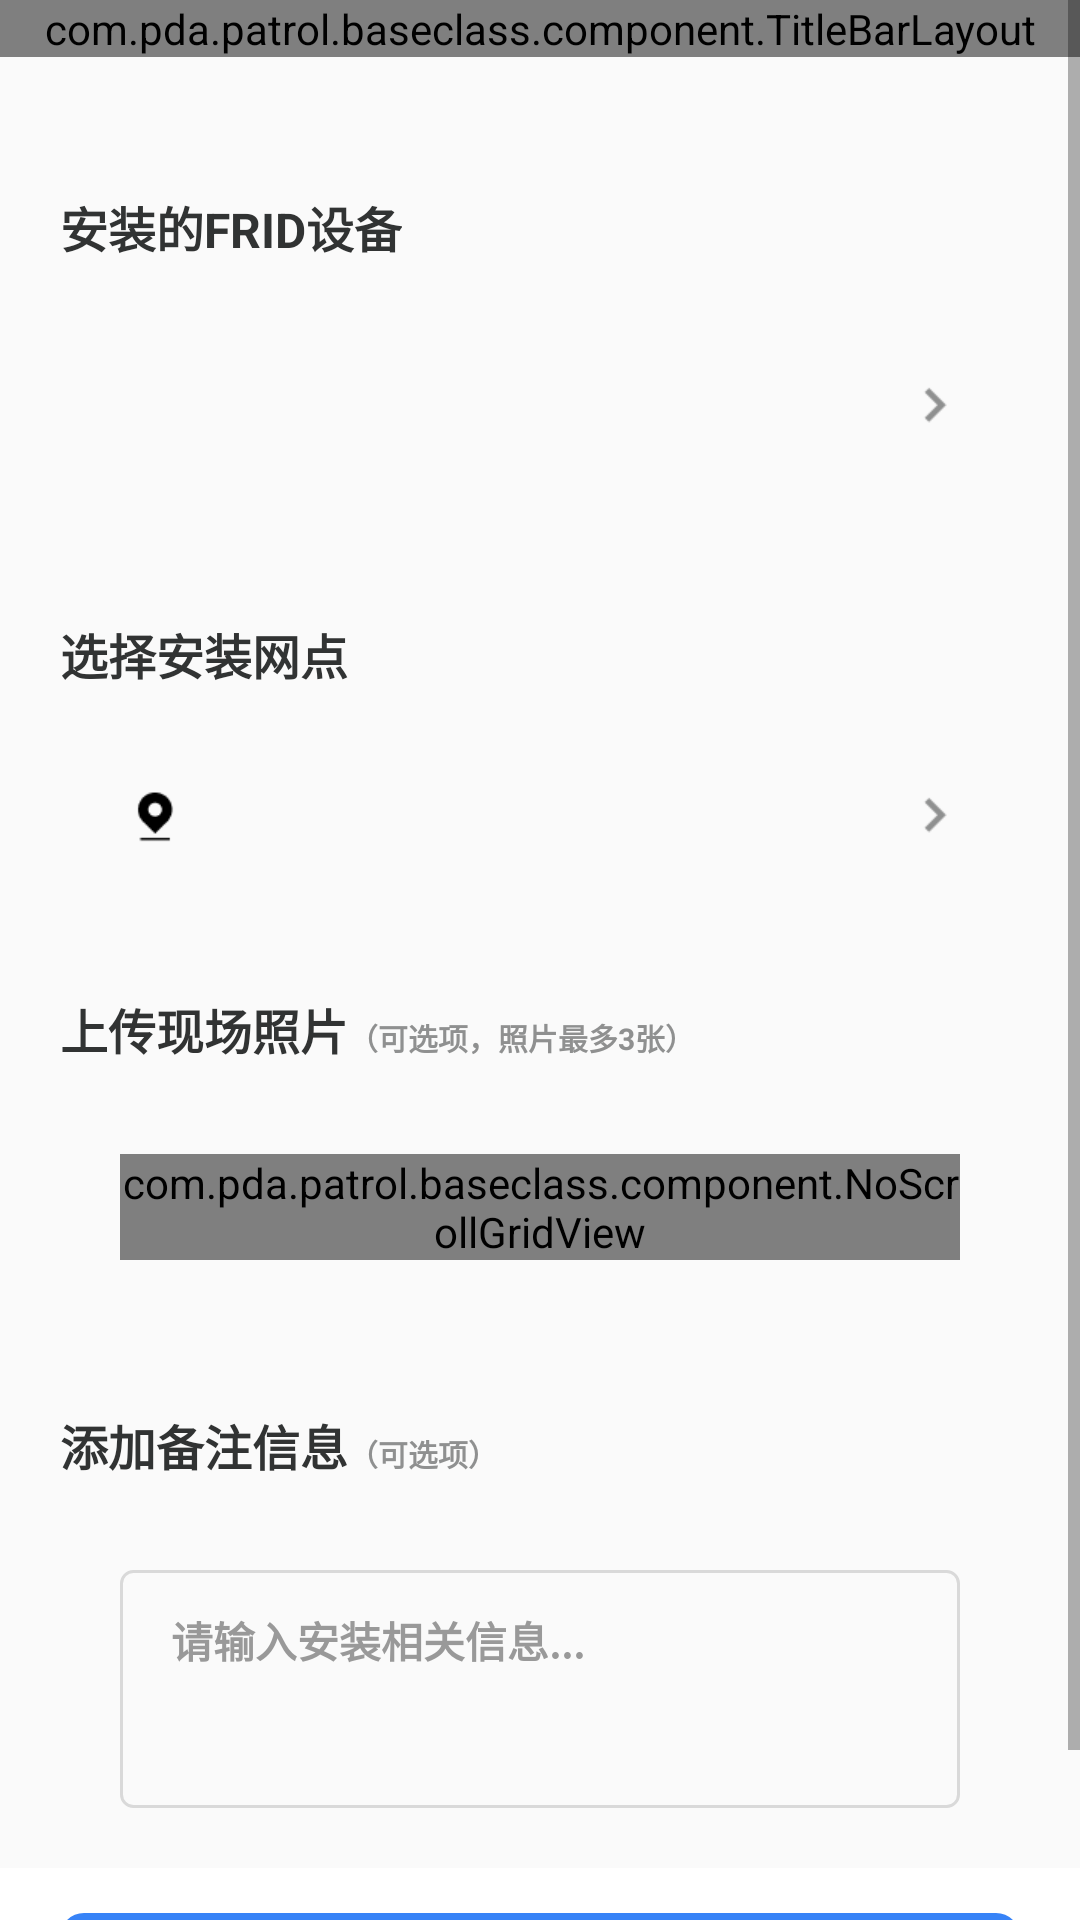

Icon click points for this 1080*1920 phone screenshot, format [x,y]:
arrow right: [935,405], [935,815]
map: [155,816]
